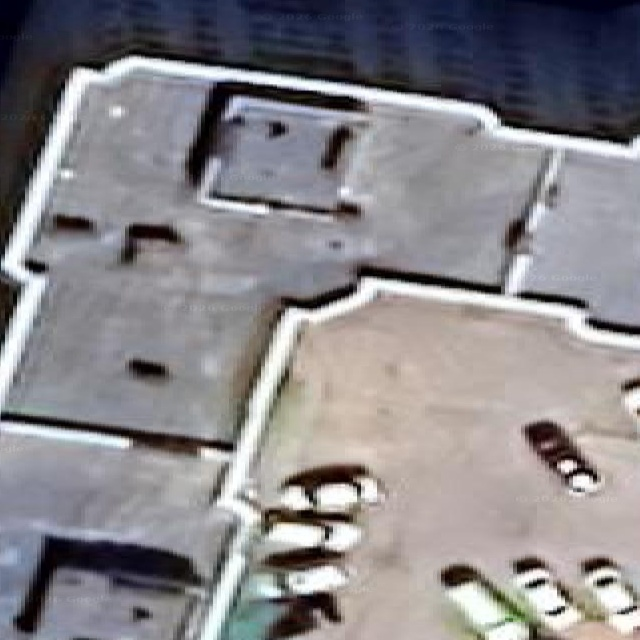car: (440, 565, 531, 639), (524, 421, 602, 494), (280, 464, 385, 513), (513, 557, 582, 631), (248, 549, 349, 599), (582, 558, 639, 633), (262, 508, 361, 551), (265, 593, 341, 639)
